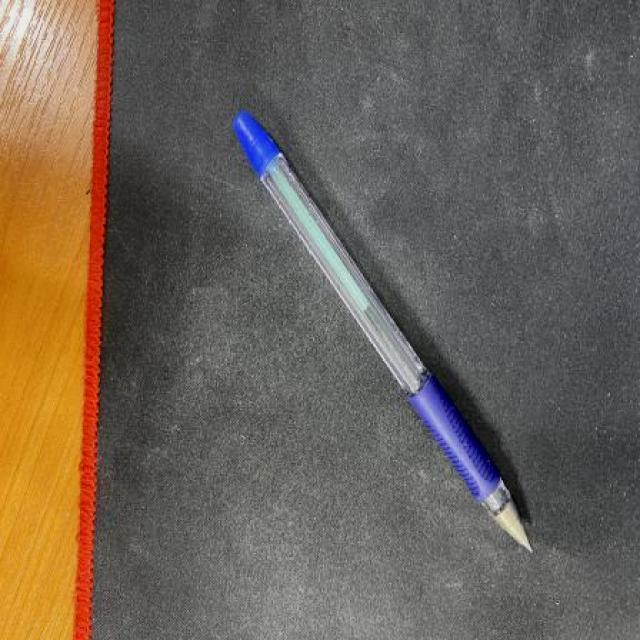pen: (230, 104, 533, 554)
